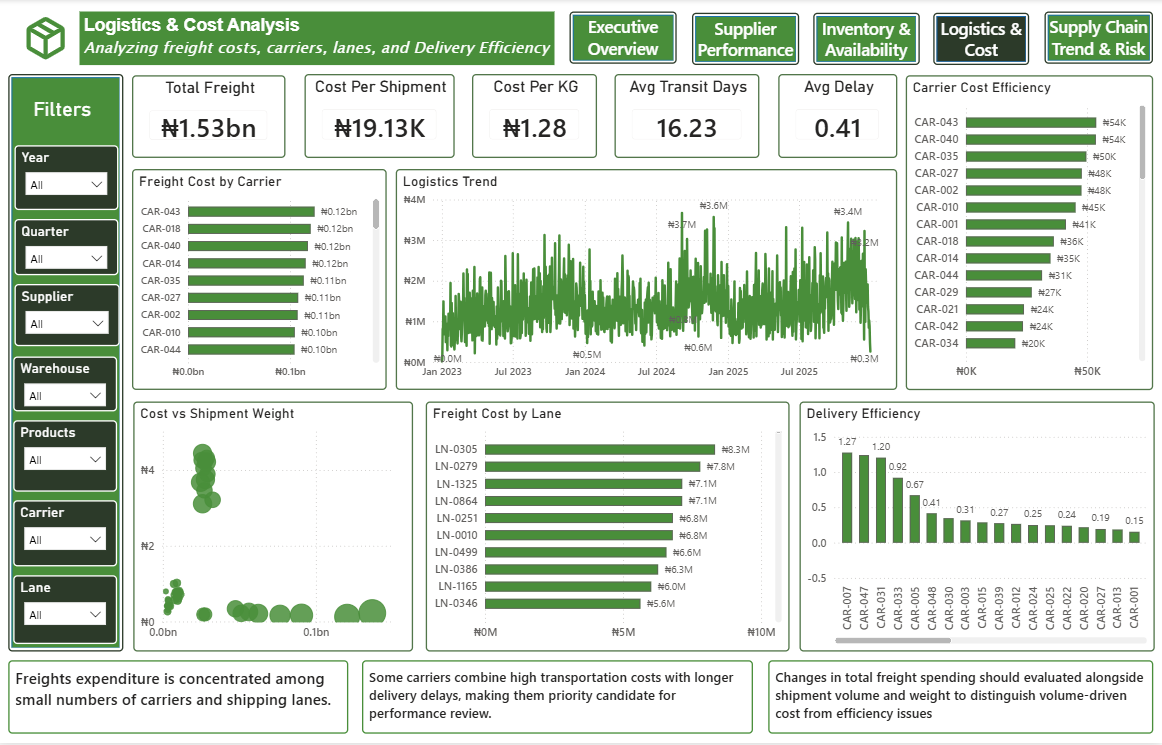

Layout of this report page (visuals, bound fields, positions):
{"tool":"powerbi","page":{"name":"Logistics & Cost","canvas":[1410,900],"ordinal":3},"visuals":[{"type":"cardVisual","title":"Total Freight","fields":{"Data":["KPIs meansure.Total Freight Cost"]},"box":[163.3,92.2,185.9,99.8],"z":0},{"type":"cardVisual","title":"Cost Per KG","fields":{"Data":["KPIs meansure.Freight Cost Per KG"]},"box":[574.4,90.7,151.2,101.3],"z":1000},{"type":"cardVisual","title":"Cost Per Shipment","fields":{"Data":["KPIs meansure.Freight Per Shipment"]},"box":[371.1,90.7,181.4,101.3],"z":2000},{"type":"cardVisual","title":"Avg Transit Days","fields":{"Data":["KPIs meansure.Average Transit Days"]},"box":[747.5,90.7,175.3,101.3],"z":3000},{"type":"shape","box":[13.6,90.7,139.1,698.4],"z":4000},{"type":"slicer","title":"Year","fields":{"Values":["tblDate.year"]},"box":[21.2,176.9,125.5,78.6],"z":5000},{"type":"slicer","title":"Supplier","fields":{"Values":["tblSuppliers.supplier_name"]},"box":[21.2,345.1,127,75.6],"z":6000},{"type":"slicer","title":"Warehouse","fields":{"Values":["tblInventory_monthly.warehouse_code"]},"box":[19.7,431.6,125.5,66.5],"z":7000},{"type":"slicer","title":"Products","fields":{"Values":["tblProducts.product_category"]},"box":[19.7,508.9,125.5,86.2],"z":8000},{"type":"slicer","title":"Carrier","fields":{"Values":["tblShipments.carrier_id"]},"box":[19.7,605.9,125.5,80.1],"z":9000},{"type":"slicer","title":"Lane","fields":{"Values":["tblShipments.lane_id"]},"box":[19.7,696.8,125.5,83.1],"z":10000},{"type":"slicer","title":"Quarter","fields":{"Values":["tblDate.quarter"]},"box":[21.2,266.3,125.5,68],"z":11000},{"type":"textbox","box":[99.8,15.1,574.4,65],"z":12000},{"type":"shape","box":[692.3,15.1,130,63.5],"z":13000},{"type":"shape","box":[839.7,16.6,130,63.5],"z":14000},{"type":"shape","box":[987.1,16.6,128.5,63.5],"z":15000},{"type":"shape","box":[1132.9,16.6,116.4,63.5],"z":16000},{"type":"shape","box":[1266.7,15.1,131.5,63.5],"z":17000},{"type":"shape","box":[19.7,102.8,123.9,60.5],"z":18000},{"type":"clusteredBarChart","title":"Freight Cost by Carrier","fields":{"Category":["tblShipments.carrier_id"],"Y":["KPIs meansure.Total Freight Cost"]},"box":[163.3,205.6,308.4,267.6],"z":19000},{"type":"barChart","title":"Carrier Cost Efficiency","fields":{"Category":["tblShipments.carrier_id"],"Y":["KPIs meansure.Freight Per Shipment"]},"box":[1098.9,92.2,299.3,380.9],"z":20000},{"type":"barChart","title":"Freight Cost by Lane","fields":{"Category":["tblShipments.lane_id"],"Y":["KPIs meansure.Total Freight Cost"]},"box":[518.5,486.7,439.9,302.3],"z":21000},{"type":"textbox","box":[13.6,799.6,411.2,89.2],"z":22000},{"type":"textbox","box":[441.4,799.6,473.1,89.2],"z":23000},{"type":"textbox","box":[932.6,799.6,465.6,89.2],"z":24000},{"type":"cardVisual","title":"Avg Delay","fields":{"Data":["KPIs meansure.Average Delay"]},"box":[944.7,90.7,143.6,101.3],"z":25000},{"type":"scatterChart","title":"Cost vs Shipment Weight","fields":{"X":["Sum(tblShipments.shipment_weight_kg)"],"Y":["KPIs meansure.Freight Cost Per KG"],"Category":["tblShipments.carrier_id"],"Size":["KPIs meansure.Total Shipments"]},"box":[164.8,486.7,338.6,302.3],"z":26000},{"type":"columnChart","title":"Delivery Efficiency","fields":{"Category":["tblShipments.carrier_id"],"Y":["KPIs meansure.Average Delay"]},"box":[970.4,486.7,429.3,302.3],"z":27000},{"type":"lineChart","title":"Logistics Trend","fields":{"Category":["tblShipments.ship_date"],"Y":["KPIs meansure.Total Freight Cost"]},"box":[482.2,205.6,606.1,267.6],"z":28000},{"type":"image","box":[13.6,16.6,90.7,62],"z":29000}]}

Visuals, with their boxes in screenshot pixels (x1, y1, x2, y2), scaled from the page's 1410x900 canvas onto the 1162x745 screenshot:
"Total Freight" cardVisual: <bbox>135, 76, 288, 159</bbox>
"Cost Per KG" cardVisual: <bbox>473, 75, 598, 159</bbox>
"Cost Per Shipment" cardVisual: <bbox>306, 75, 455, 159</bbox>
"Avg Transit Days" cardVisual: <bbox>616, 75, 760, 159</bbox>
shape: <bbox>11, 75, 126, 653</bbox>
"Year" slicer: <bbox>17, 146, 121, 211</bbox>
"Supplier" slicer: <bbox>17, 286, 122, 348</bbox>
"Warehouse" slicer: <bbox>16, 357, 120, 412</bbox>
"Products" slicer: <bbox>16, 421, 120, 493</bbox>
"Carrier" slicer: <bbox>16, 502, 120, 568</bbox>
"Lane" slicer: <bbox>16, 577, 120, 646</bbox>
"Quarter" slicer: <bbox>17, 220, 121, 277</bbox>
textbox: <bbox>82, 12, 556, 66</bbox>
shape: <bbox>571, 12, 678, 65</bbox>
shape: <bbox>692, 14, 799, 66</bbox>
shape: <bbox>813, 14, 919, 66</bbox>
shape: <bbox>934, 14, 1030, 66</bbox>
shape: <bbox>1044, 12, 1152, 65</bbox>
shape: <bbox>16, 85, 118, 135</bbox>
"Freight Cost by Carrier" clusteredBarChart: <bbox>135, 170, 389, 392</bbox>
"Carrier Cost Efficiency" barChart: <bbox>906, 76, 1152, 392</bbox>
"Freight Cost by Lane" barChart: <bbox>427, 403, 790, 653</bbox>
textbox: <bbox>11, 662, 350, 736</bbox>
textbox: <bbox>364, 662, 754, 736</bbox>
textbox: <bbox>769, 662, 1152, 736</bbox>
"Avg Delay" cardVisual: <bbox>779, 75, 897, 159</bbox>
"Cost vs Shipment Weight" scatterChart: <bbox>136, 403, 415, 653</bbox>
"Delivery Efficiency" columnChart: <bbox>800, 403, 1154, 653</bbox>
"Logistics Trend" lineChart: <bbox>397, 170, 897, 392</bbox>
image: <bbox>11, 14, 86, 65</bbox>
